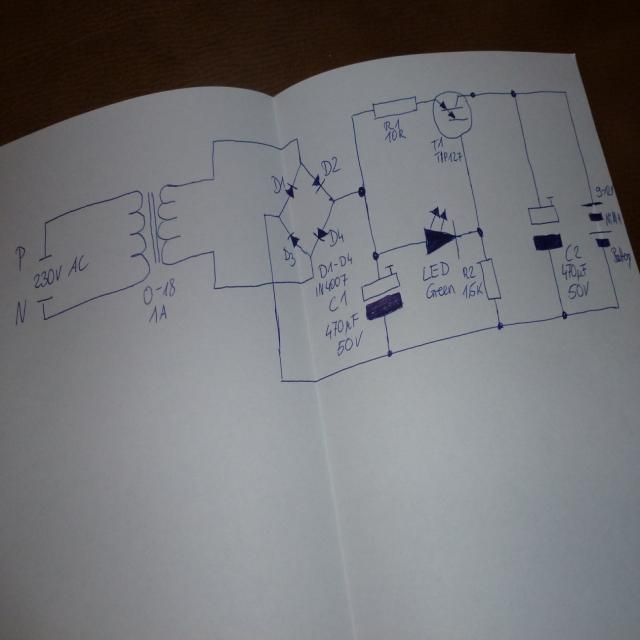capacitor: (359, 263, 403, 322), (526, 192, 563, 254)
crossover: (270, 278, 275, 284)
diode: (421, 204, 460, 260), (309, 172, 324, 193), (311, 225, 329, 242), (285, 230, 301, 248), (283, 179, 297, 199)
junction: (356, 183, 368, 199), (370, 248, 380, 262), (475, 224, 485, 237), (508, 87, 518, 99), (495, 319, 504, 332), (385, 347, 393, 358), (41, 217, 49, 228), (209, 136, 217, 146), (560, 310, 568, 320), (292, 135, 300, 144), (328, 194, 335, 204), (41, 312, 48, 322), (348, 112, 356, 120), (614, 302, 621, 310), (209, 247, 216, 255), (296, 160, 303, 168), (210, 174, 216, 182), (211, 283, 217, 291), (310, 272, 316, 280), (306, 252, 313, 258), (278, 376, 284, 383), (562, 88, 567, 94), (277, 212, 281, 219), (262, 210, 266, 217)
resistor: (371, 93, 417, 120), (476, 256, 502, 301)
source: (578, 198, 612, 247)
terminal: (36, 252, 54, 264), (35, 293, 53, 305)
text: (34, 254, 91, 291), (323, 310, 359, 340), (141, 277, 176, 306), (317, 250, 352, 279), (314, 271, 349, 297), (336, 328, 363, 357), (424, 280, 462, 297), (422, 260, 449, 282), (560, 262, 588, 282), (146, 300, 167, 326), (610, 244, 631, 270), (328, 288, 348, 312), (433, 148, 462, 164), (319, 156, 341, 177), (13, 243, 28, 273), (13, 297, 27, 327), (461, 280, 483, 299), (567, 281, 589, 299), (563, 242, 582, 262), (383, 128, 406, 144), (324, 227, 343, 246), (604, 210, 623, 227), (594, 182, 614, 198), (270, 174, 285, 194), (282, 246, 296, 266), (427, 138, 446, 152), (461, 263, 476, 280), (382, 116, 400, 130)
transformer: (123, 188, 180, 265)
transistor: (432, 88, 474, 139)
